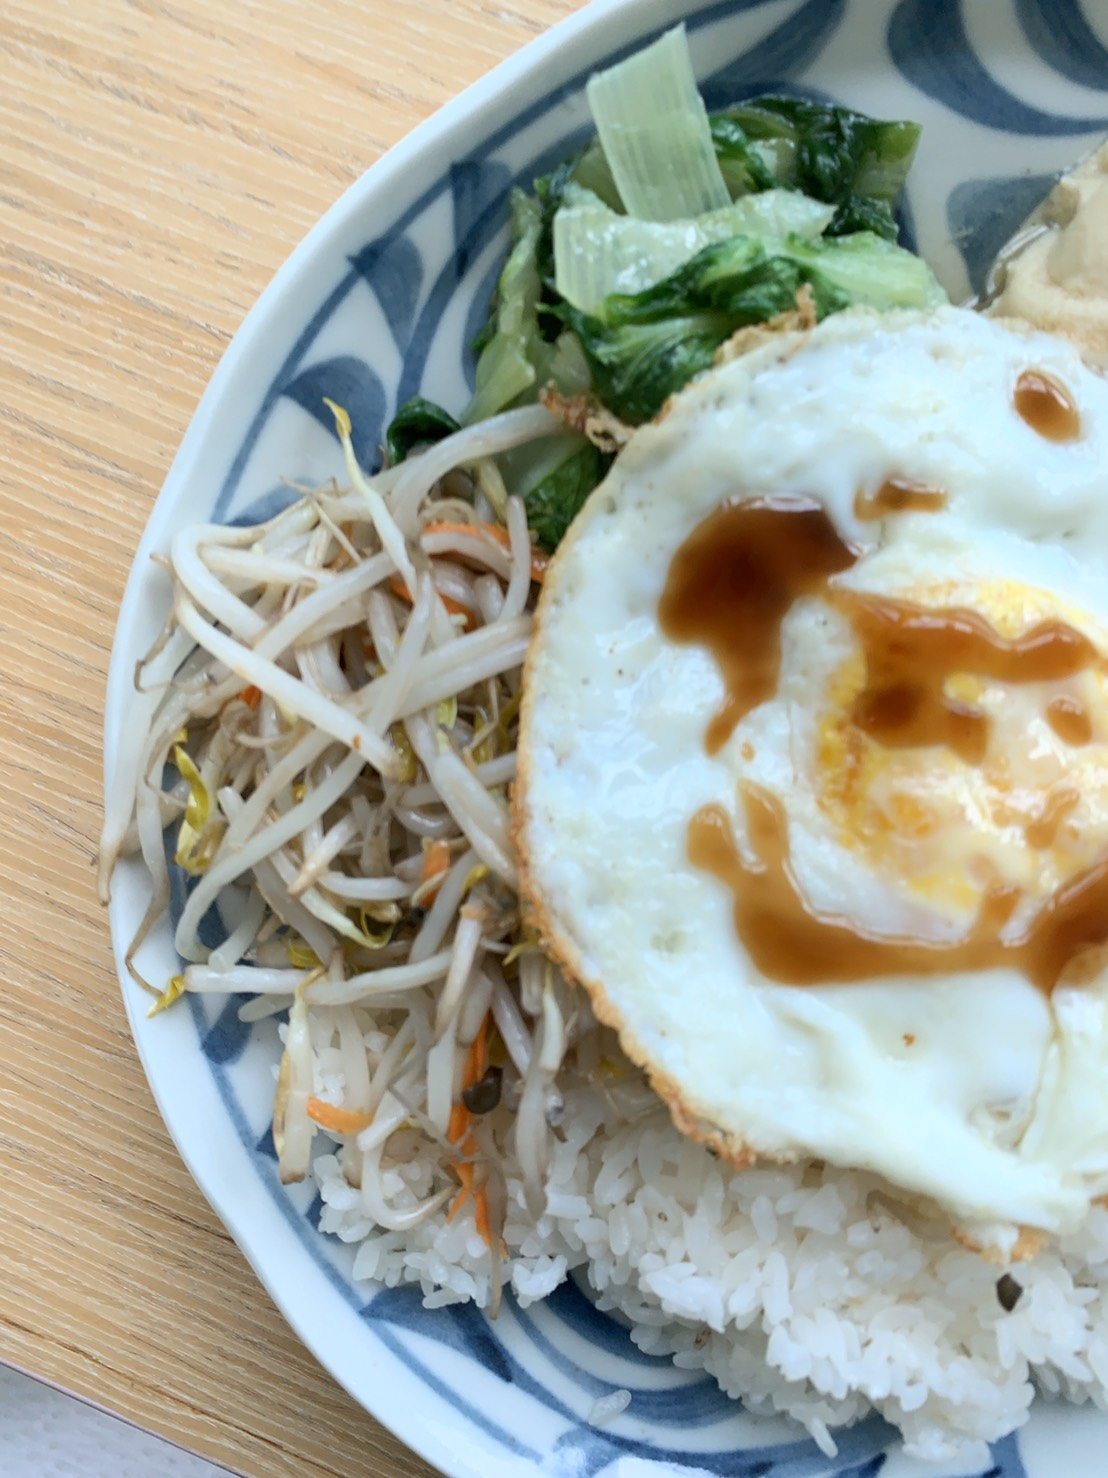fried_eggs: (532, 306, 1108, 1245)
mung_bean_sprouts: (186, 517, 523, 982)
rice: (625, 1191, 994, 1388)
